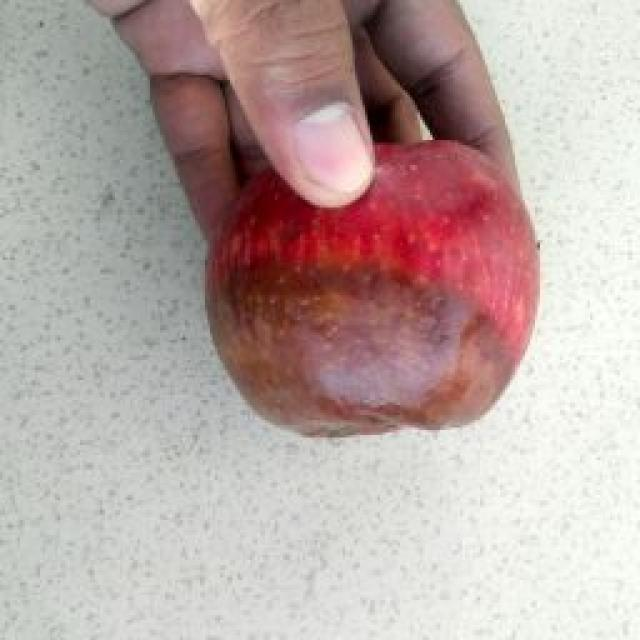Bad_Apple: (210, 145, 539, 435)
